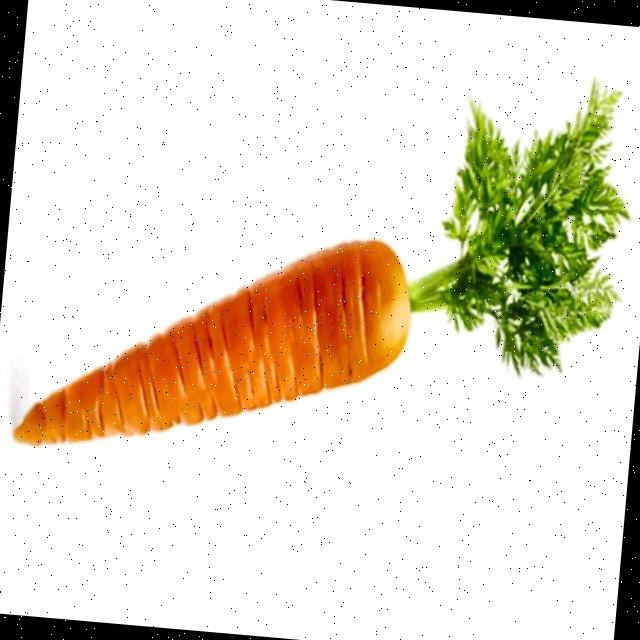carrot: (13, 85, 626, 446)
